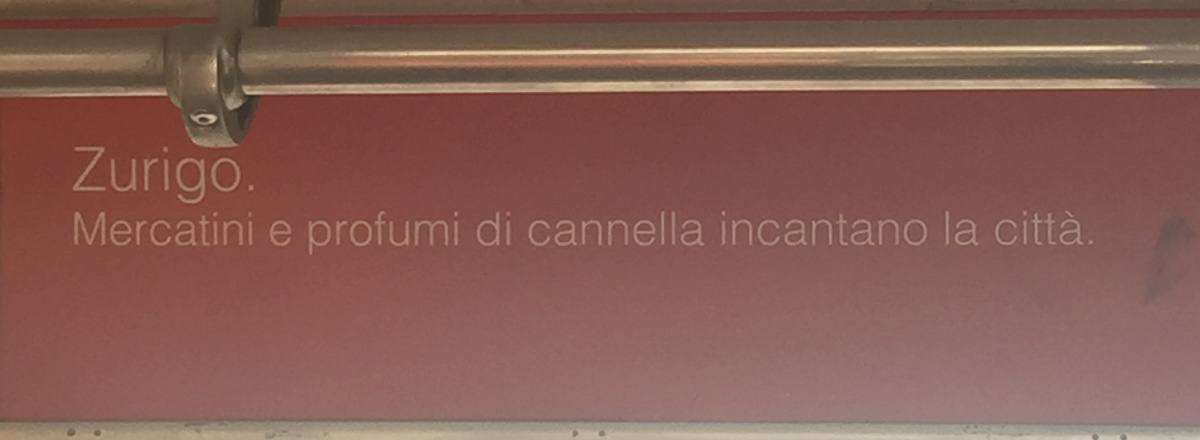text: (81, 143, 96, 209), (97, 143, 112, 209), (113, 143, 128, 209), (129, 143, 144, 209), (145, 143, 160, 209), (161, 143, 176, 209), (177, 143, 192, 209), (193, 143, 208, 209), (209, 143, 224, 209), (225, 143, 240, 209), (241, 143, 256, 209), (305, 208, 320, 259), (321, 208, 336, 259), (337, 208, 352, 259), (353, 208, 368, 259), (369, 208, 384, 259), (385, 208, 400, 259), (401, 208, 416, 259), (417, 208, 432, 259), (433, 208, 448, 259), (449, 208, 464, 259), (69, 143, 80, 209), (481, 209, 496, 251), (497, 209, 512, 251), (81, 208, 96, 249), (97, 208, 112, 249), (113, 208, 128, 249), (129, 208, 144, 249), (145, 208, 160, 249), (161, 208, 176, 249), (177, 208, 192, 249), (193, 208, 208, 249), (209, 208, 224, 249), (225, 208, 240, 249), (241, 208, 256, 249), (529, 209, 544, 250), (545, 209, 560, 250), (561, 209, 576, 250), (577, 209, 592, 250), (593, 209, 608, 250), (609, 209, 624, 250), (625, 209, 640, 250), (641, 209, 656, 250), (657, 209, 672, 250), (673, 209, 688, 250), (689, 209, 704, 250), (721, 209, 736, 250), (737, 209, 752, 250), (753, 209, 768, 250), (769, 209, 784, 250), (785, 209, 800, 250), (801, 209, 816, 250), (817, 209, 832, 250), (833, 209, 848, 250), (849, 209, 864, 250), (865, 209, 880, 250), (881, 209, 896, 250), (897, 209, 912, 250), (913, 209, 928, 250), (945, 208, 960, 249), (961, 208, 976, 249), (993, 208, 1008, 249), (1009, 208, 1024, 249), (1025, 208, 1040, 249), (1041, 208, 1056, 249), (1057, 208, 1072, 249), (1073, 208, 1088, 249), (273, 218, 288, 251), (257, 143, 264, 209), (69, 208, 80, 249), (1089, 208, 1098, 249), (289, 218, 297, 251), (987, 208, 992, 249), (476, 209, 480, 251), (977, 208, 981, 249), (268, 218, 272, 251), (705, 209, 708, 250), (513, 209, 515, 251), (718, 209, 720, 250), (929, 209, 931, 250), (942, 208, 944, 249), (303, 208, 304, 259), (465, 208, 466, 259), (257, 208, 258, 249), (527, 209, 528, 250)
